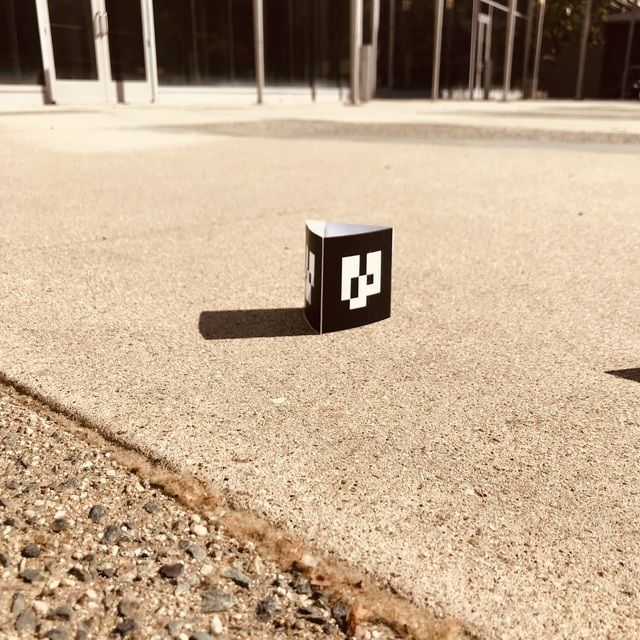ARTag: (302, 220, 394, 335)
